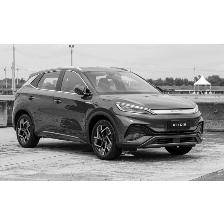EV: (12, 66, 208, 161)
